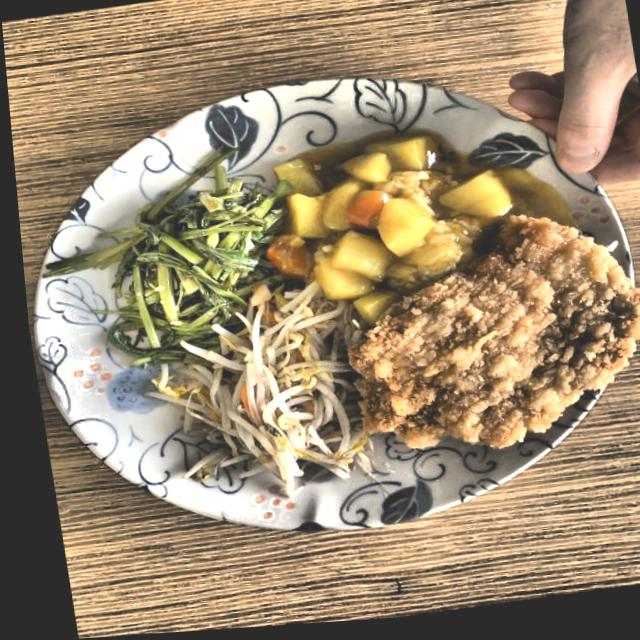Food: (345, 221, 640, 464), (275, 139, 490, 283), (169, 321, 358, 472), (96, 195, 265, 327)
